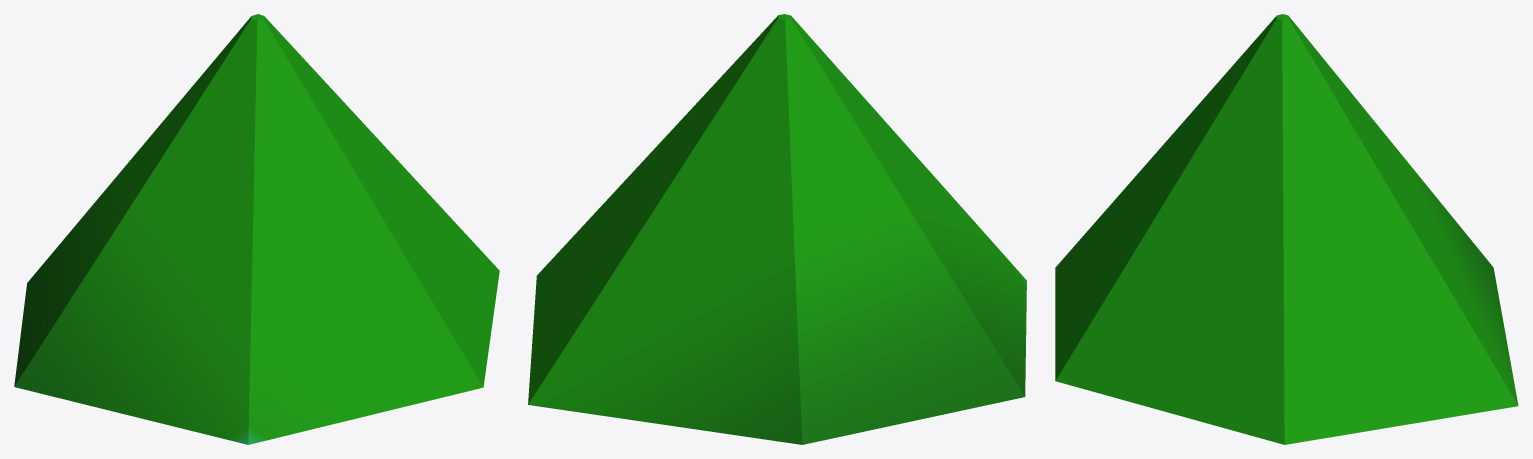
The model's file is montana1.glb.
3 views of the same model, side by side, from view 1: azimuth 30°, elevation 25°; view 2: azimuth 150°, elevation 25°; view 3: azimuth 270°, elevation 25° (orthographic). The views are drawn at different scales.
Parts seen in each view (by area): view 1: Cube; view 2: Cube; view 3: Cube.
Boxes of the visible parts, x1,y1,x2,y2 form: Cube: (14, 14, 499, 444); Cube: (528, 14, 1026, 444); Cube: (1055, 14, 1518, 444).
Size of what is drawn, in the model's own units: 95.51 by 61.94 by 80.01.
Materials: 1 (1 with a texture image).
